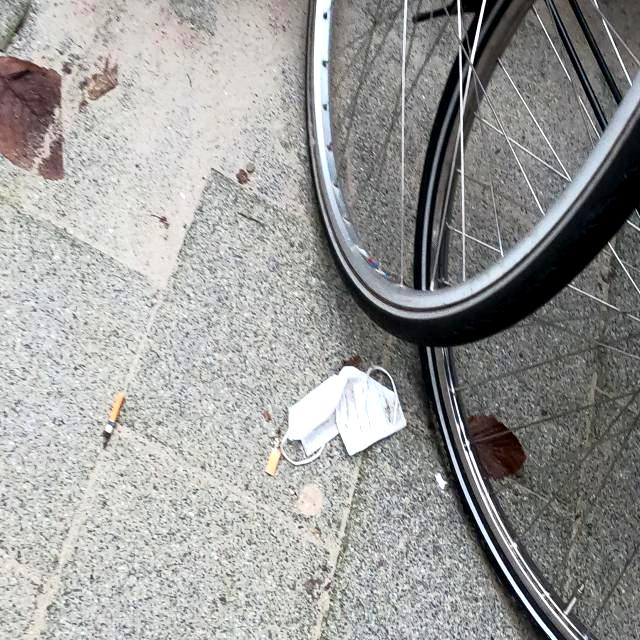Mask: (277, 358, 408, 468)
